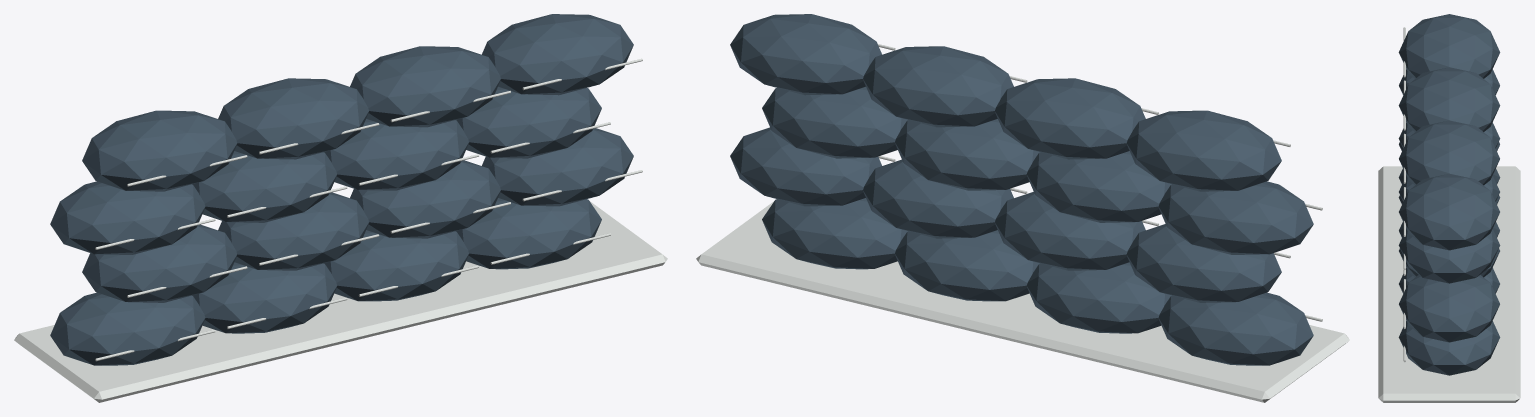
3 views of the same model, side by side, from view 1: azimuth 30°, elevation 25°; view 2: azimuth 150°, elevation 25°; view 3: azimuth 270°, elevation 25° (orthographic). The views are drawn at different scales.
Visible parts, largest first — view 1: ME-014 Bagged-regolith shielding wall batched; view 2: ME-014 Bagged-regolith shielding wall batched; view 3: ME-014 Bagged-regolith shielding wall batched.
Part boxes in pixels (<box>): ME-014 Bagged-regolith shielding wall batched: <box>14,14,667,402</box>; ME-014 Bagged-regolith shielding wall batched: <box>696,14,1349,402</box>; ME-014 Bagged-regolith shielding wall batched: <box>1378,14,1520,402</box>.
Size of the model in its own units: 2.7 by 1.03 by 0.7.
